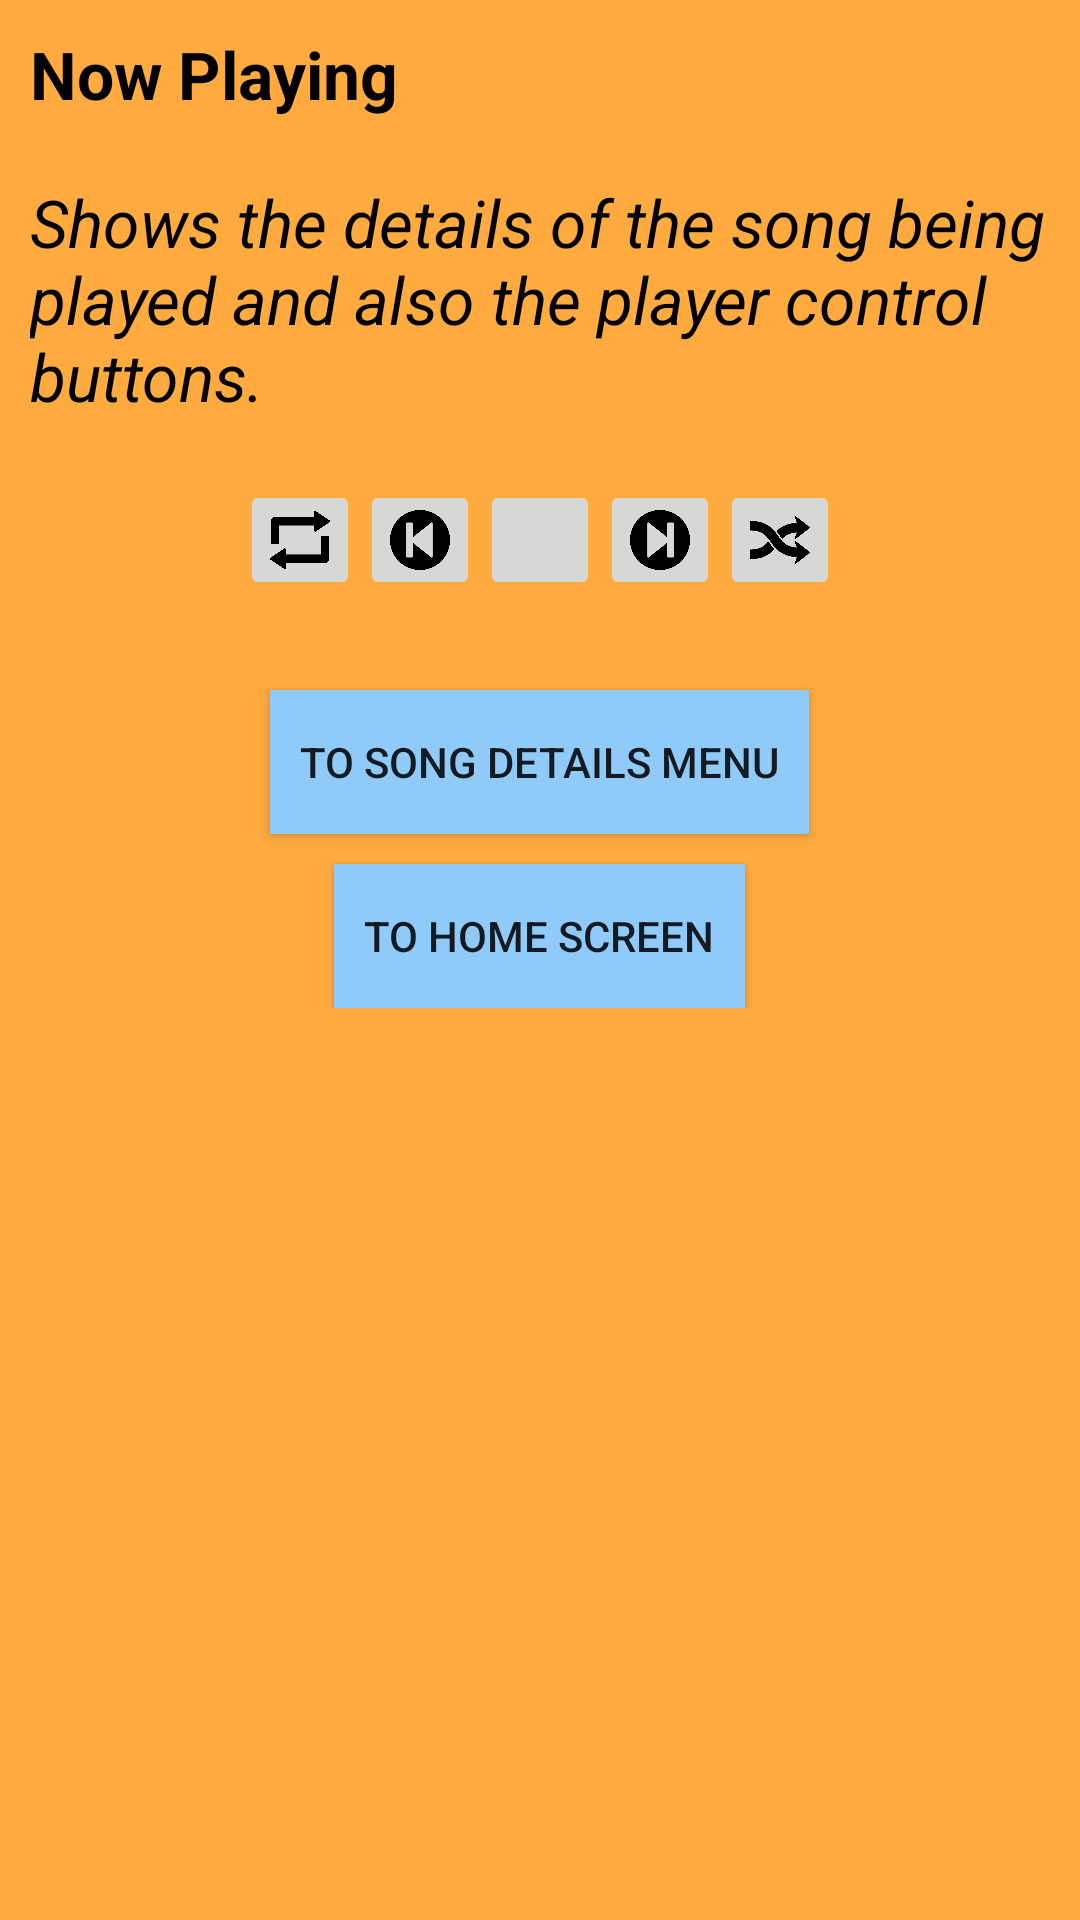

Icons on this 1080px×1920px Android screen, each with the point to tap as (x=x, y=y):
Next Track: (x=660, y=540)
Previous Track: (x=420, y=540)
Repeat: (x=300, y=540)
Shuffle: (x=780, y=540)
